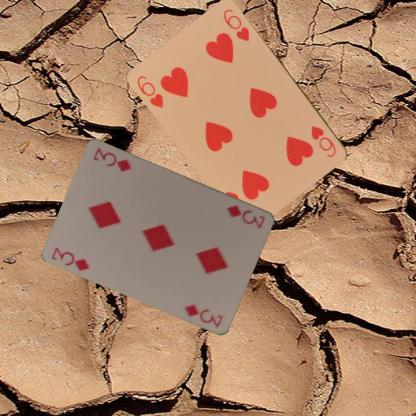3d: (224, 202, 267, 230), (49, 245, 92, 272)
6h: (135, 73, 165, 109), (309, 123, 338, 159)
